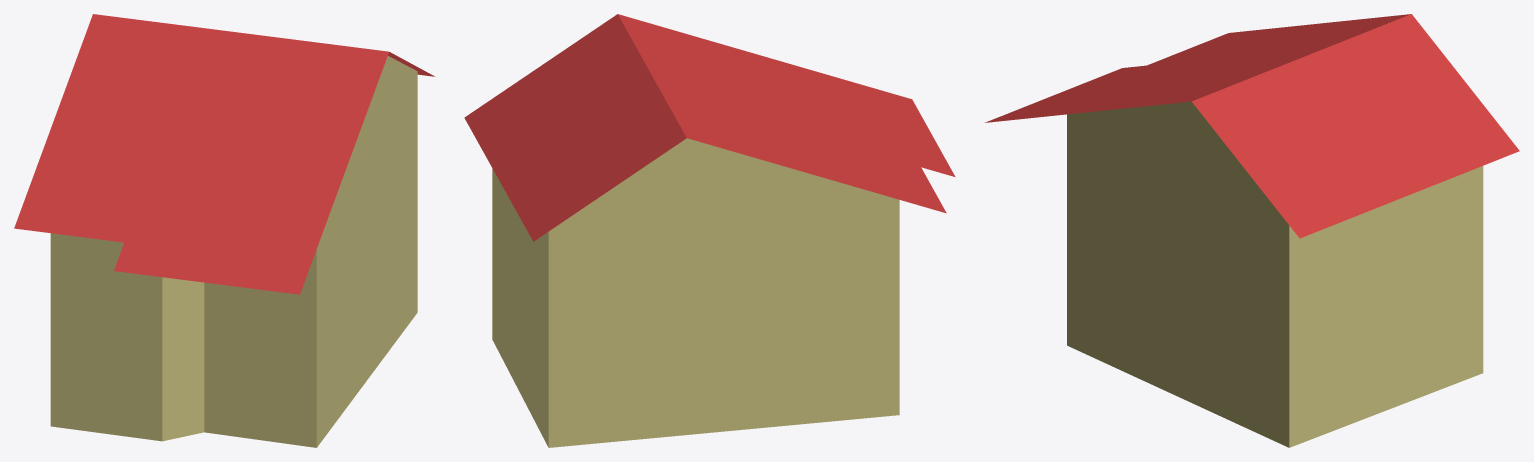
3 renders of one model, left to right at view 1: azimuth 30°, elevation 25°; view 2: azimuth 150°, elevation 25°; view 3: azimuth 270°, elevation 25°, orthographic. The views are drawn at different scales.
Size of the model in its own units: 15.8 by 16.38 by 10.42.
